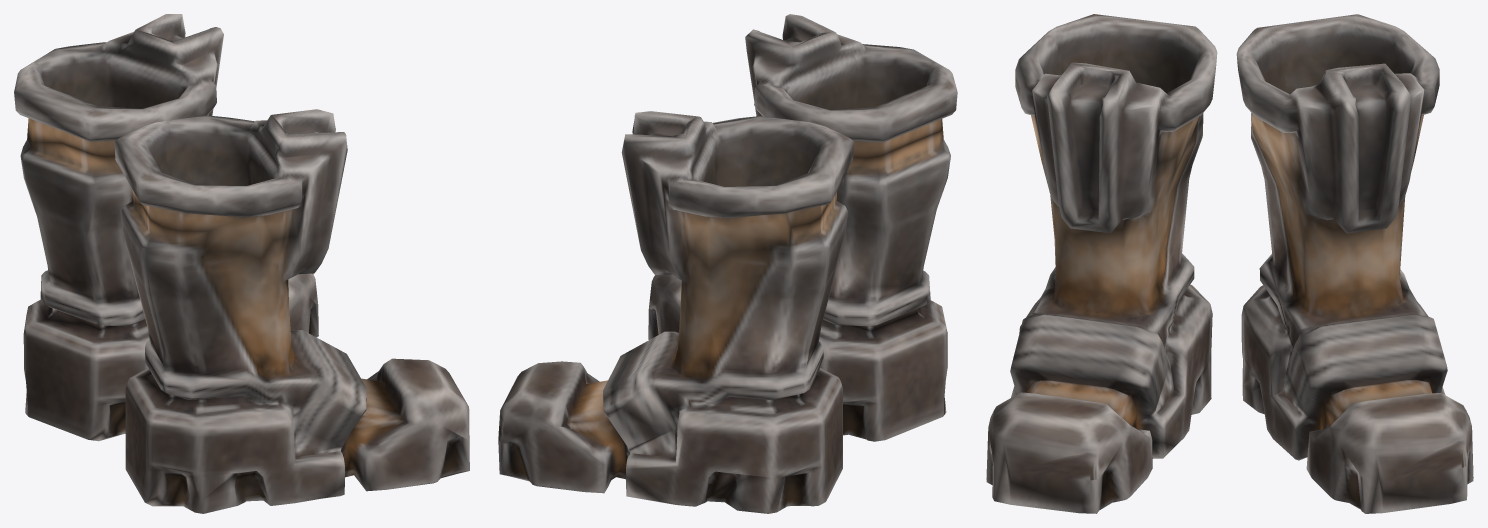
Rendered from Iron_Boots.fbx.
3 renders of one model, left to right at view 1: azimuth 30°, elevation 25°; view 2: azimuth 150°, elevation 25°; view 3: azimuth 270°, elevation 25°, orthographic. The views are drawn at different scales.
Parts seen in each view (by area): view 1: Item_Iron_Boots; view 2: Item_Iron_Boots; view 3: Item_Iron_Boots.
Boxes of the visible parts, x1,y1,x2,y2 form: Item_Iron_Boots: [14, 14, 469, 513]; Item_Iron_Boots: [498, 14, 957, 513]; Item_Iron_Boots: [986, 14, 1473, 513].
Bounding box in the file's own units: 55.29 × 59.05 × 71.56.
